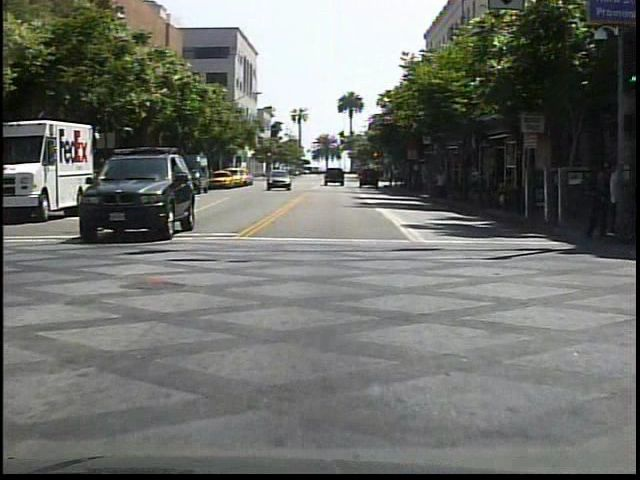person: (580, 154, 613, 243)
